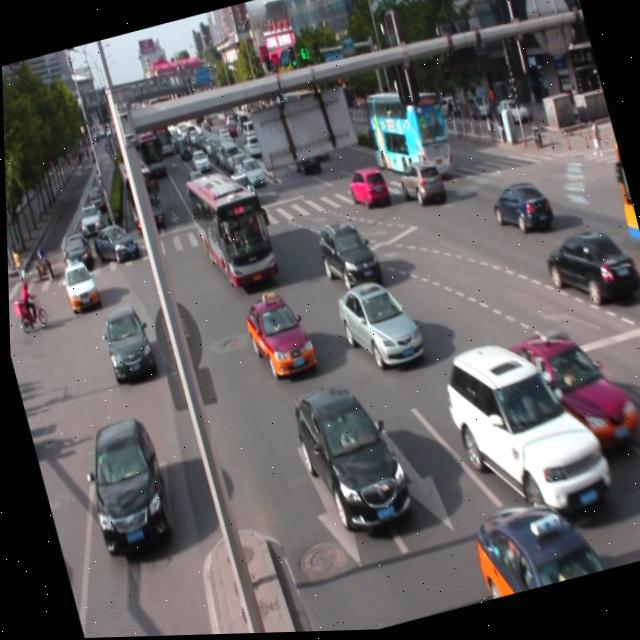car: (432, 323, 612, 540), (285, 370, 412, 543), (503, 317, 640, 470), (461, 487, 604, 604), (72, 411, 177, 561), (537, 221, 640, 321), (330, 273, 424, 378), (237, 286, 318, 386), (311, 214, 382, 298), (95, 300, 157, 388), (483, 177, 554, 242), (392, 157, 447, 213)
van: (181, 163, 278, 295)
